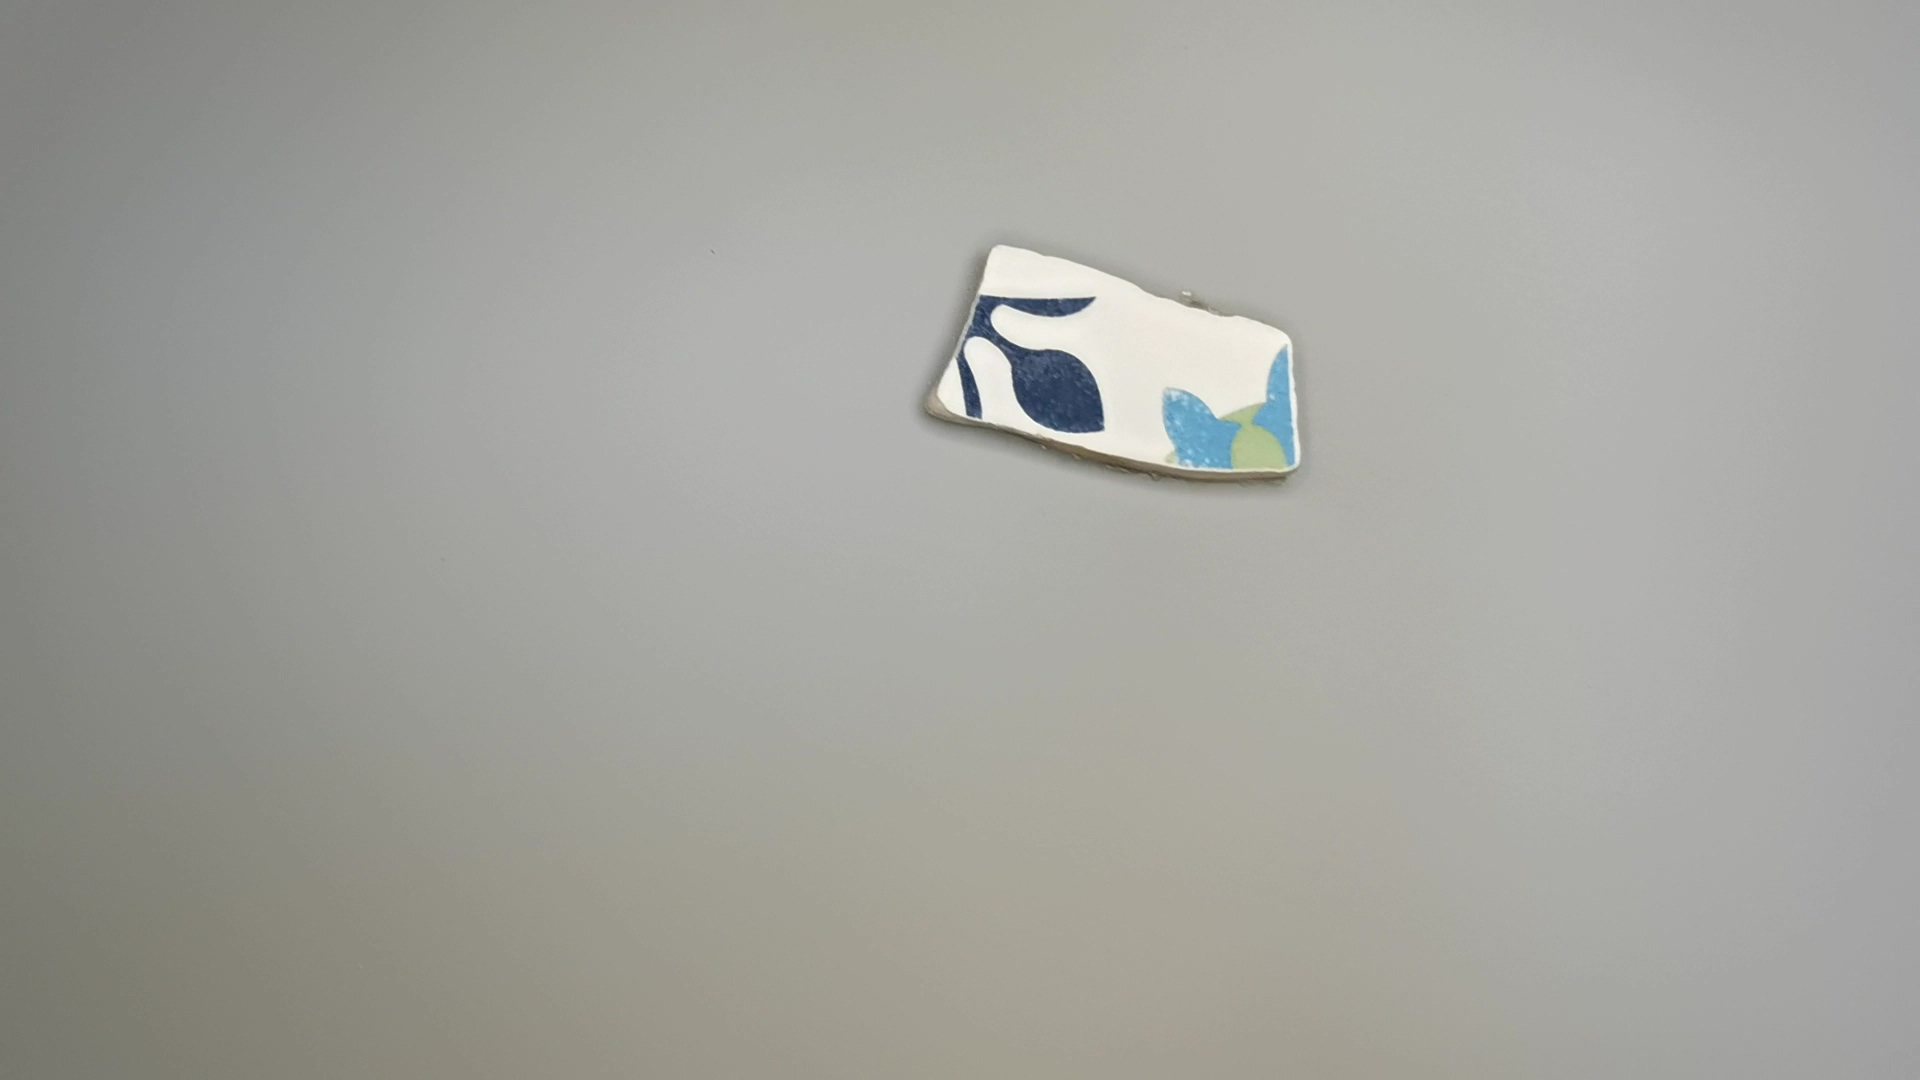ceramic: (919, 237, 1319, 495)
